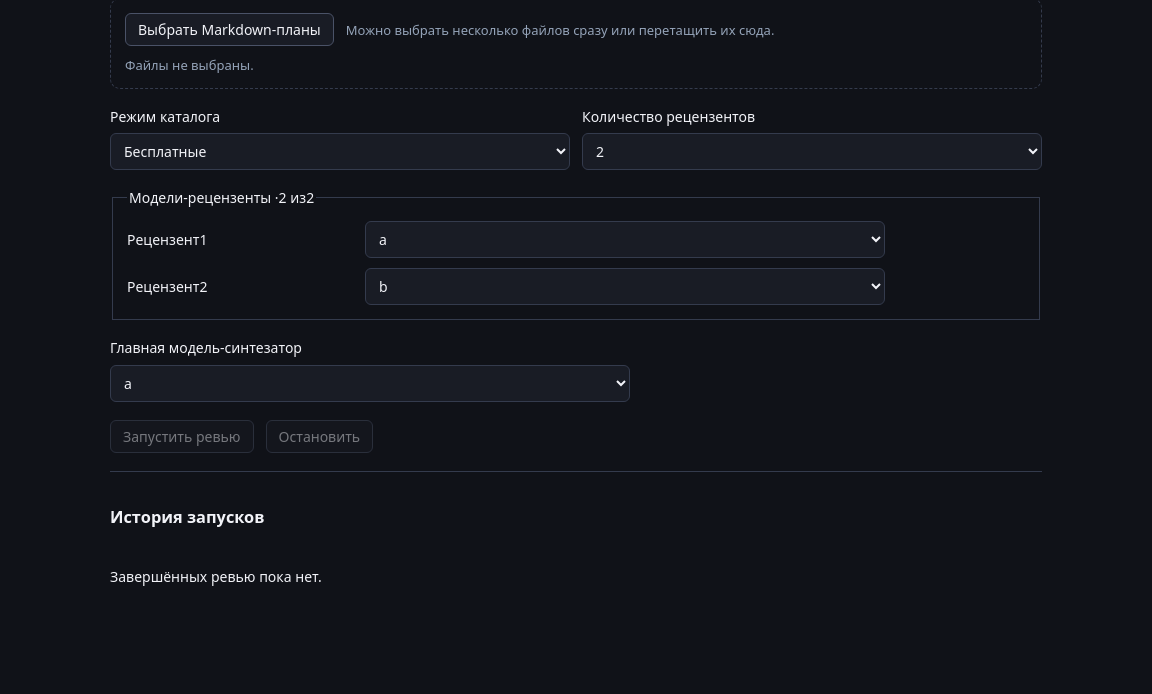
it: plan review panel › reports a rejected start request
Click the button "Выбрать Markdown-планы" at (229, 30), box [125,13,334,46]
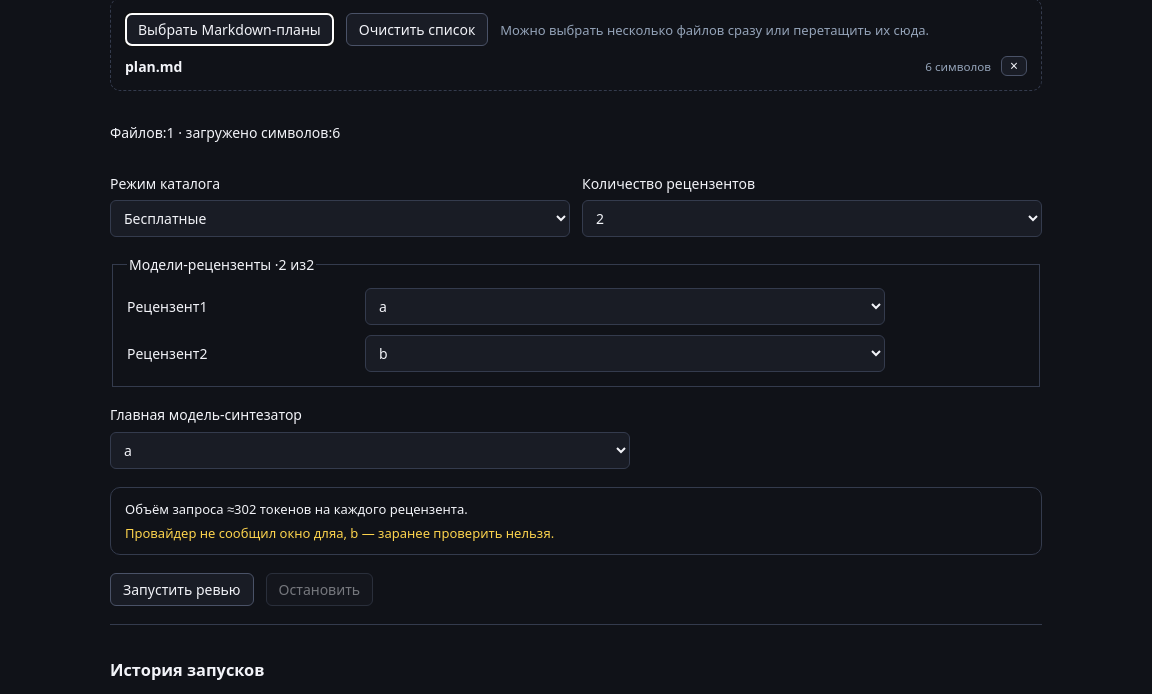
Select "a" in the dropdown named "Модель рецензента 1" at (625, 306), box [365,288,885,325]
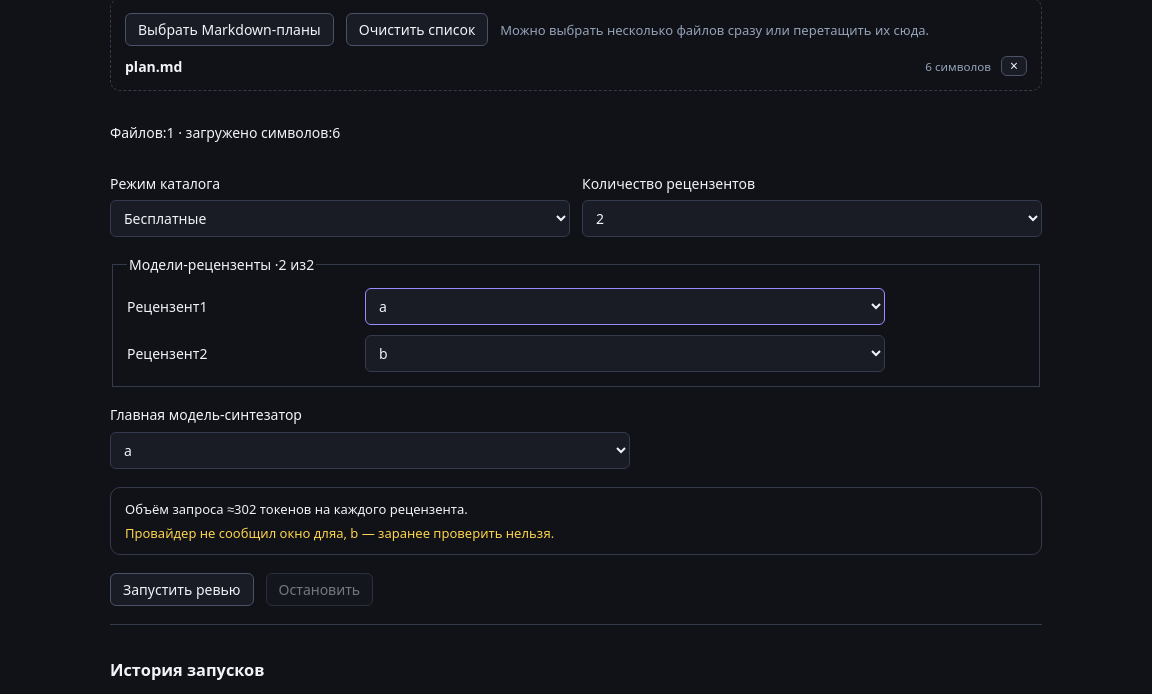
Select "b" in the dropdown named "Модель рецензента 2" at (625, 354), box [365,335,885,372]
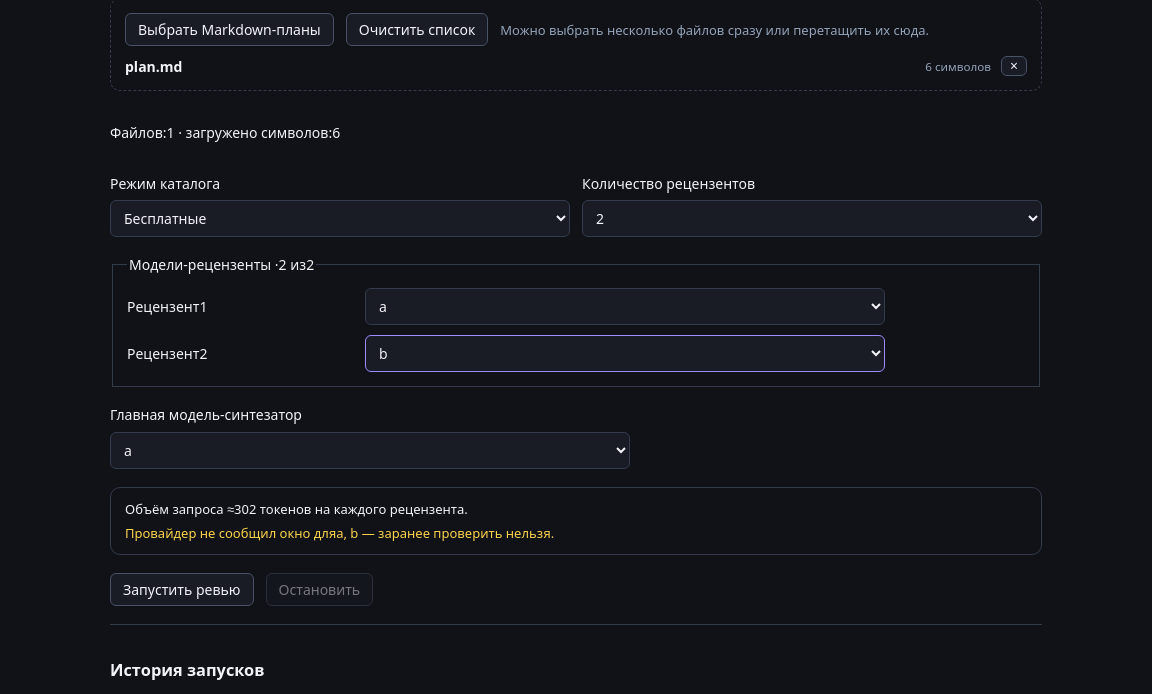
Select "main" in the dropdown labelled "Главная модель-синтезатор" at (370, 450), box [110,432,630,469]
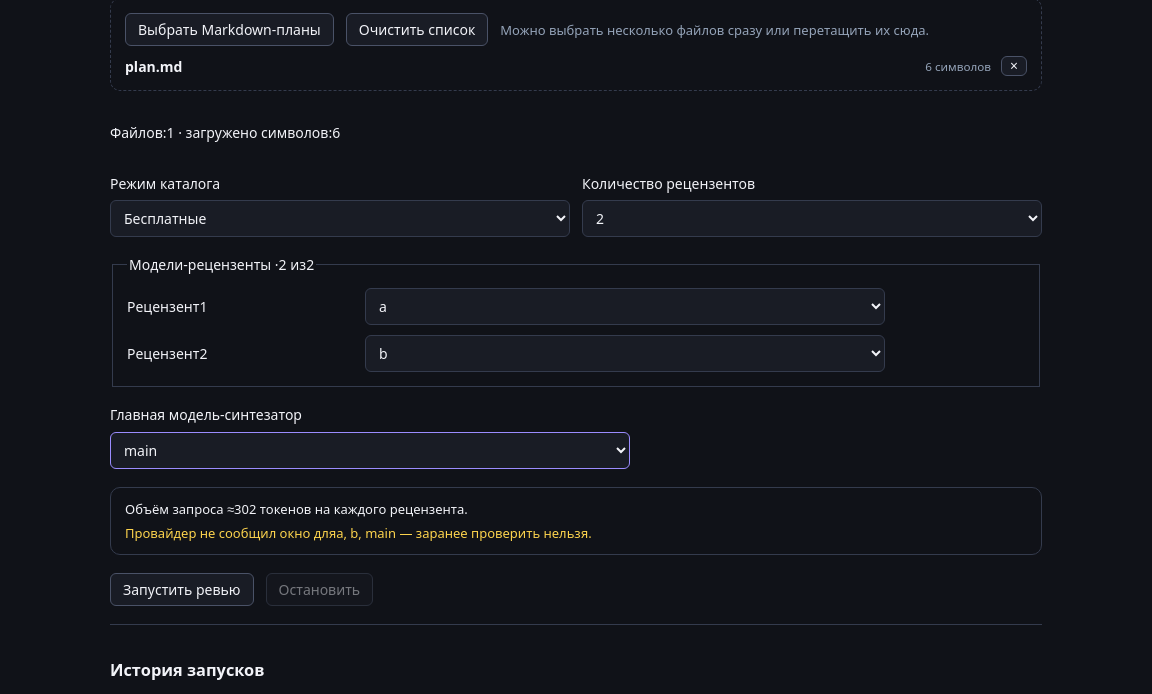
Click the button "Запустить ревью" at (182, 590), box [110,573,254,606]
(page scrolled)
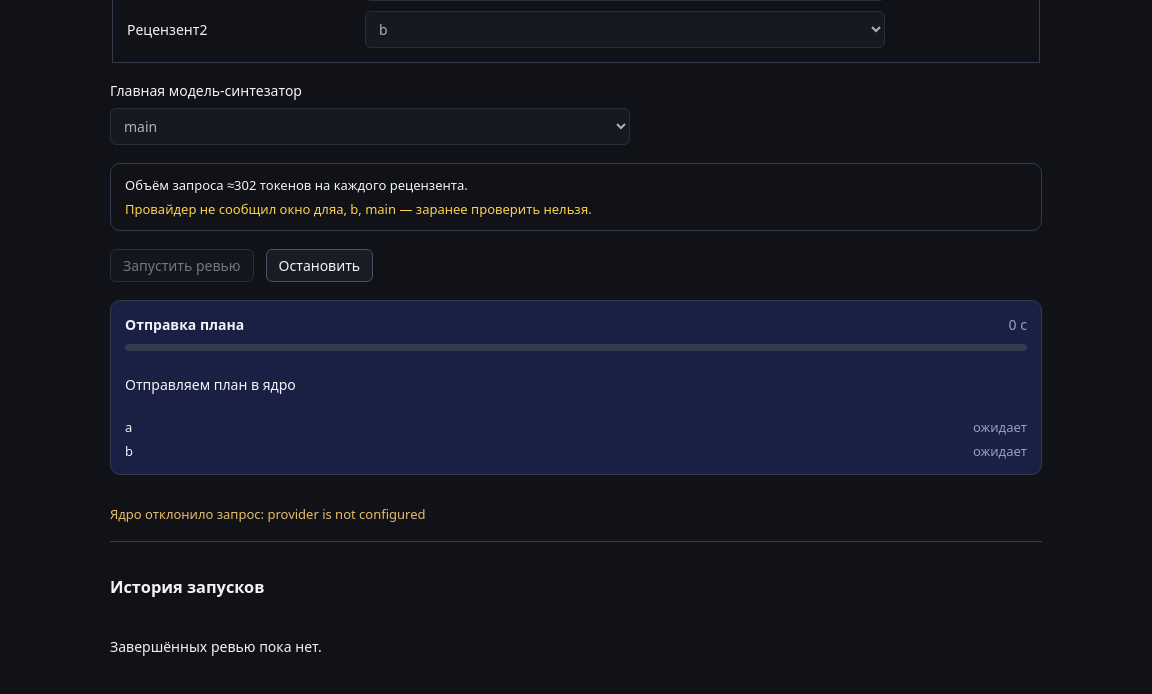
Result: the message "Ядро отклонило запрос: provider is not configured" is shown at [110,505,426,523]
